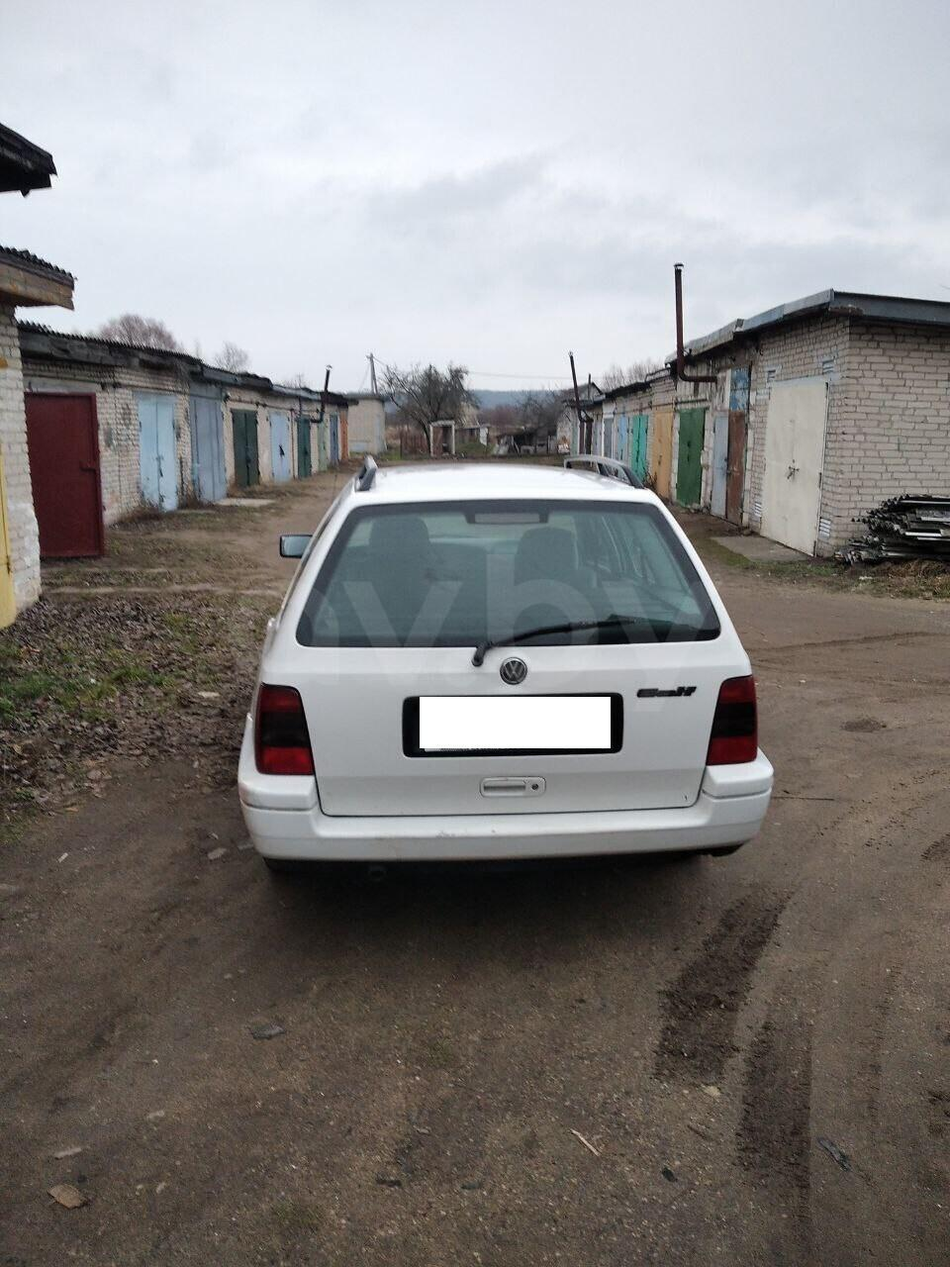Golf_1991-2000: (233, 458, 780, 879)
